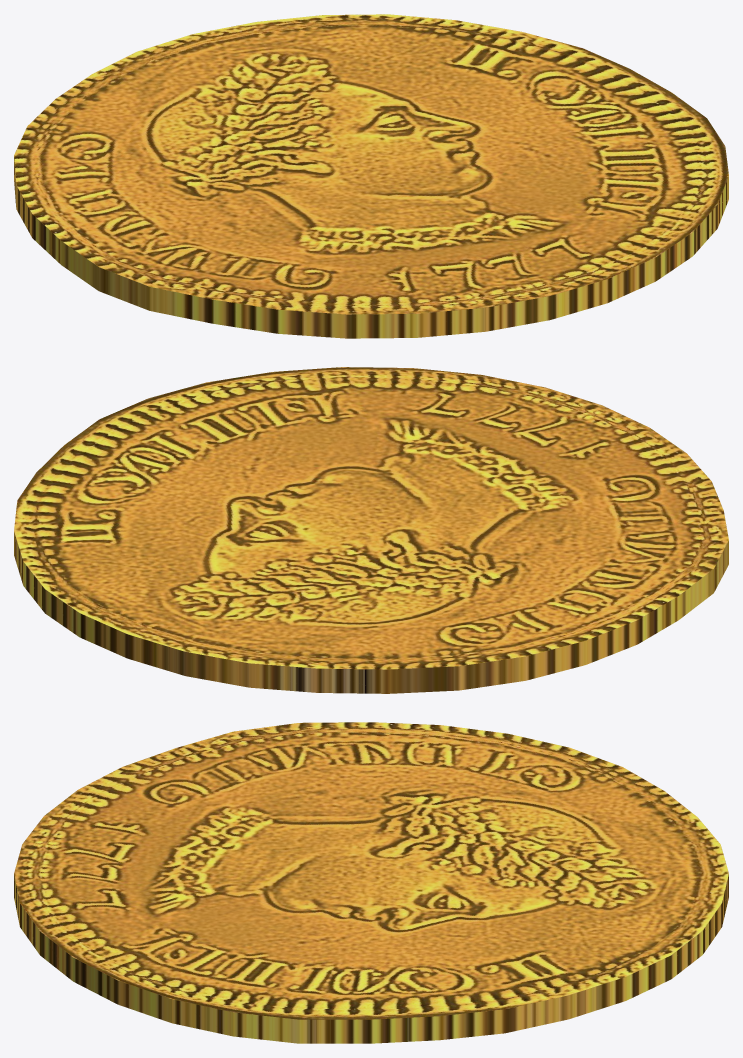
File: coin_single_low.glb
3 views of the same model, one above another, from view 1: azimuth 30°, elevation 25°; view 2: azimuth 150°, elevation 25°; view 3: azimuth 270°, elevation 25° (orthographic).
Parts seen in each view (by area): view 1: Gold Doubloon.001; view 2: Gold Doubloon.001; view 3: Gold Doubloon.001.
Part boxes in pixels (x1,y1,x2,y2): Gold Doubloon.001: (14,14,728,338); Gold Doubloon.001: (14,367,728,693); Gold Doubloon.001: (14,722,728,1043).
Size of the model in its own units: 0.05 by 0.00189 by 0.0508.
1 material, 1 textured.
